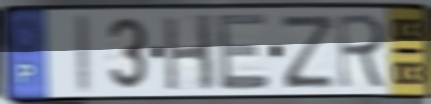3: (105, 15, 150, 91)
E: (214, 11, 272, 94)
H: (161, 12, 217, 94)
I: (74, 11, 94, 96)
R: (336, 11, 390, 91)
Z: (279, 13, 338, 91)
